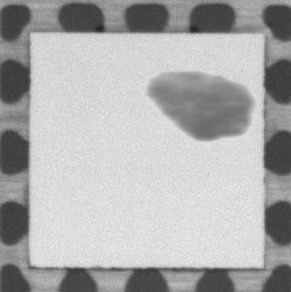DIE_INK: (146, 68, 254, 145)
